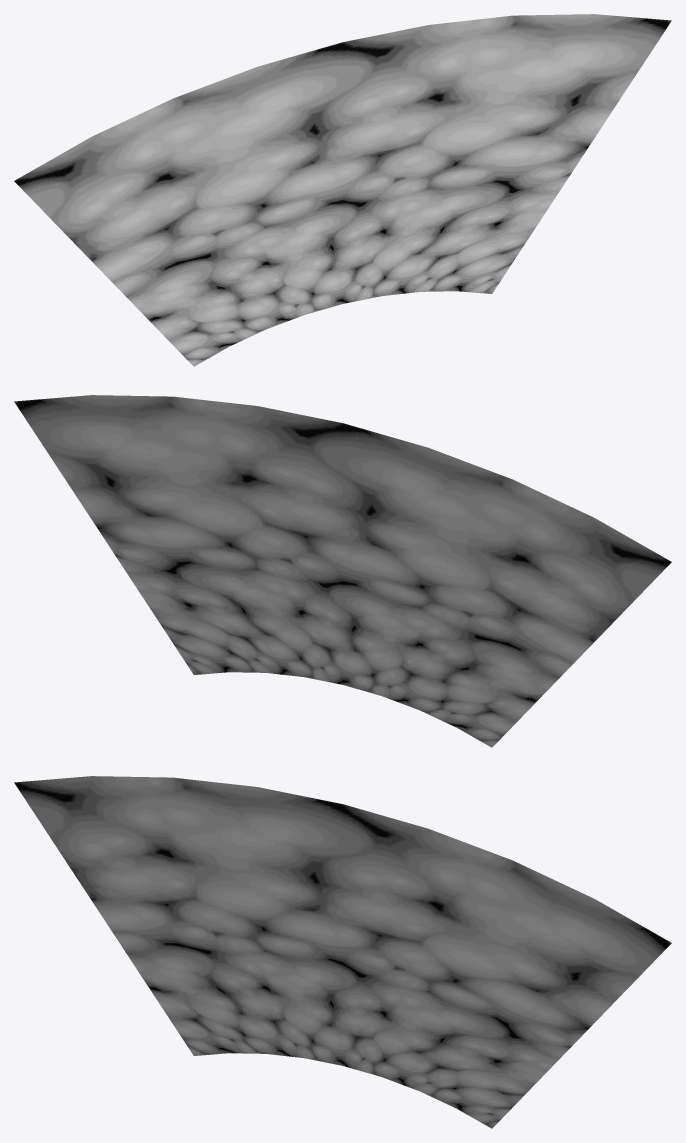
The model's file is bg_cloud.dae.
The picture shows the model from 3 angles, top to bottom: view 1: azimuth 30°, elevation 25°; view 2: azimuth 150°, elevation 25°; view 3: azimuth 330°, elevation 25°; orthographic projection.
Parts seen in each view (by area): view 1: bg_cloud; view 2: bg_cloud; view 3: bg_cloud.
Part boxes in pixels (x1,y1,x2,y2): bg_cloud: [14, 14, 671, 366]; bg_cloud: [14, 395, 671, 747]; bg_cloud: [14, 776, 671, 1128].
Bounding box in the file's own units: 1824 × 764 × 6.29e-05.
Materials: 1 (1 with a texture image).
